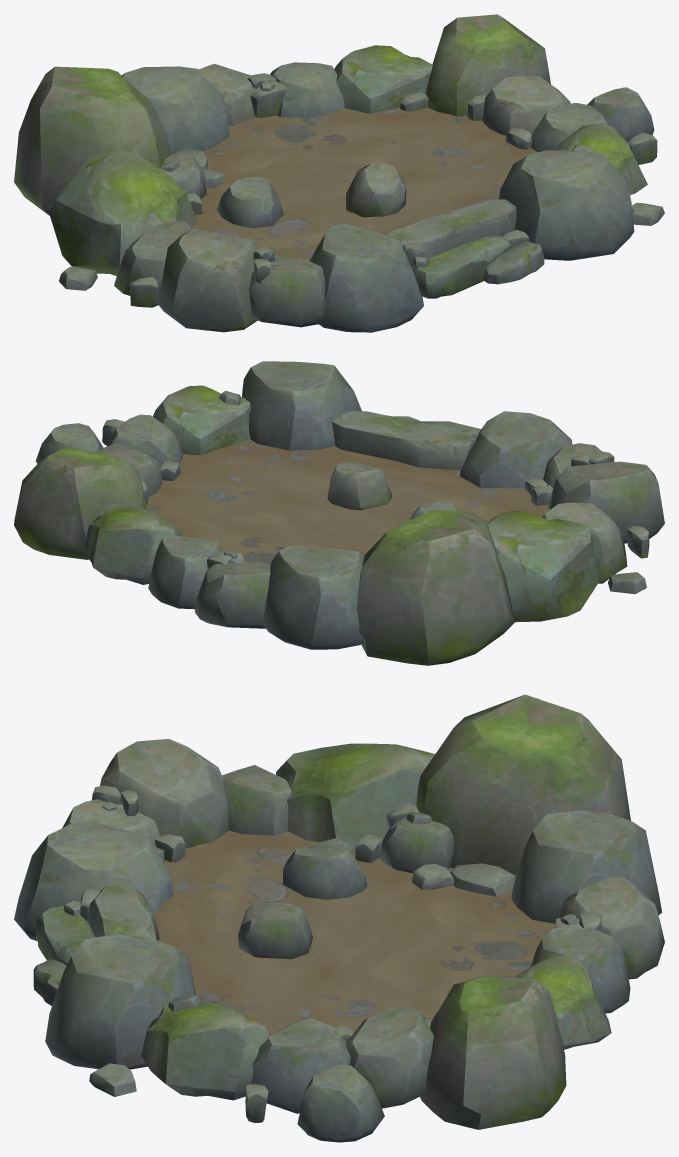
Rendered from Homeworld_Exterior_Common_Thing_Pool_01_A_Lod0.fbx.
3 views of the same model, one above another, from view 1: azimuth 30°, elevation 25°; view 2: azimuth 150°, elevation 25°; view 3: azimuth 270°, elevation 25° (orthographic). The views are drawn at different scales.
Parts seen in each view (by area): view 1: Homeworld_Exterior_Common_Thing_Pool_01_A_Lod0; view 2: Homeworld_Exterior_Common_Thing_Pool_01_A_Lod0; view 3: Homeworld_Exterior_Common_Thing_Pool_01_A_Lod0.
Part boxes in pixels (<box>): Homeworld_Exterior_Common_Thing_Pool_01_A_Lod0: <box>14,14,664,332</box>; Homeworld_Exterior_Common_Thing_Pool_01_A_Lod0: <box>14,361,664,665</box>; Homeworld_Exterior_Common_Thing_Pool_01_A_Lod0: <box>14,694,664,1142</box>.
Size of the model in its own units: 10.66 by 2.11 by 8.13.
Materials: 1 (1 with a texture image).
